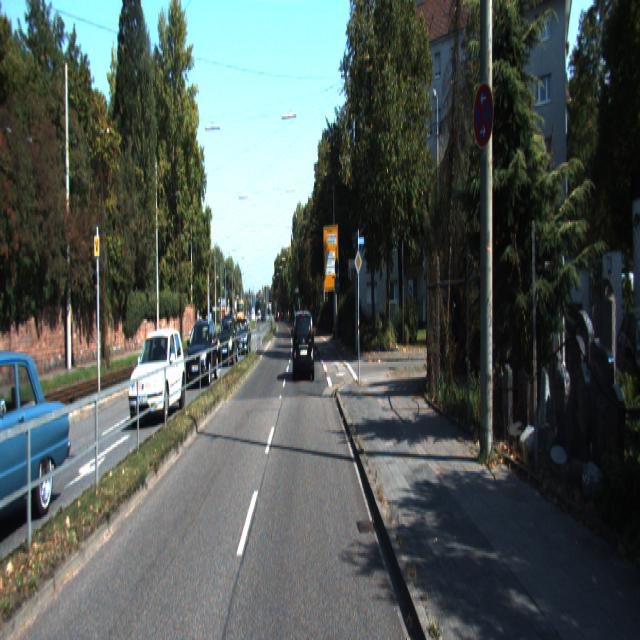Car: (0, 340, 74, 546), (129, 320, 189, 424), (186, 318, 220, 390), (293, 308, 316, 383), (218, 313, 238, 366), (233, 318, 252, 356)
